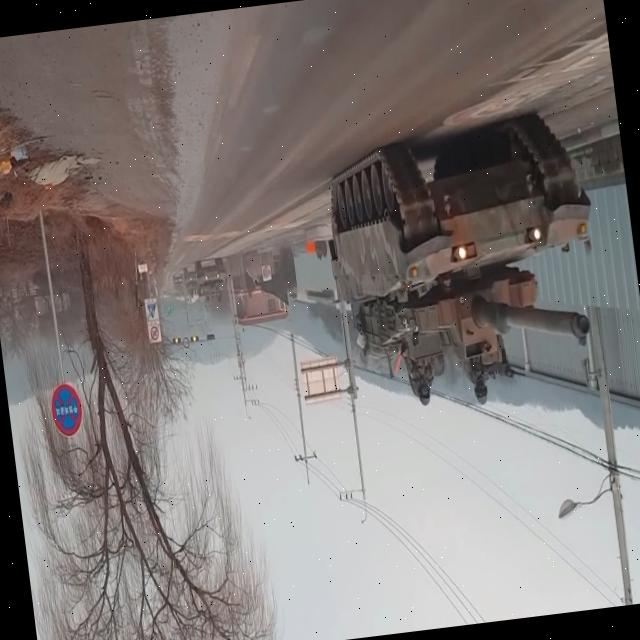korea tank: (312, 96, 620, 427)
